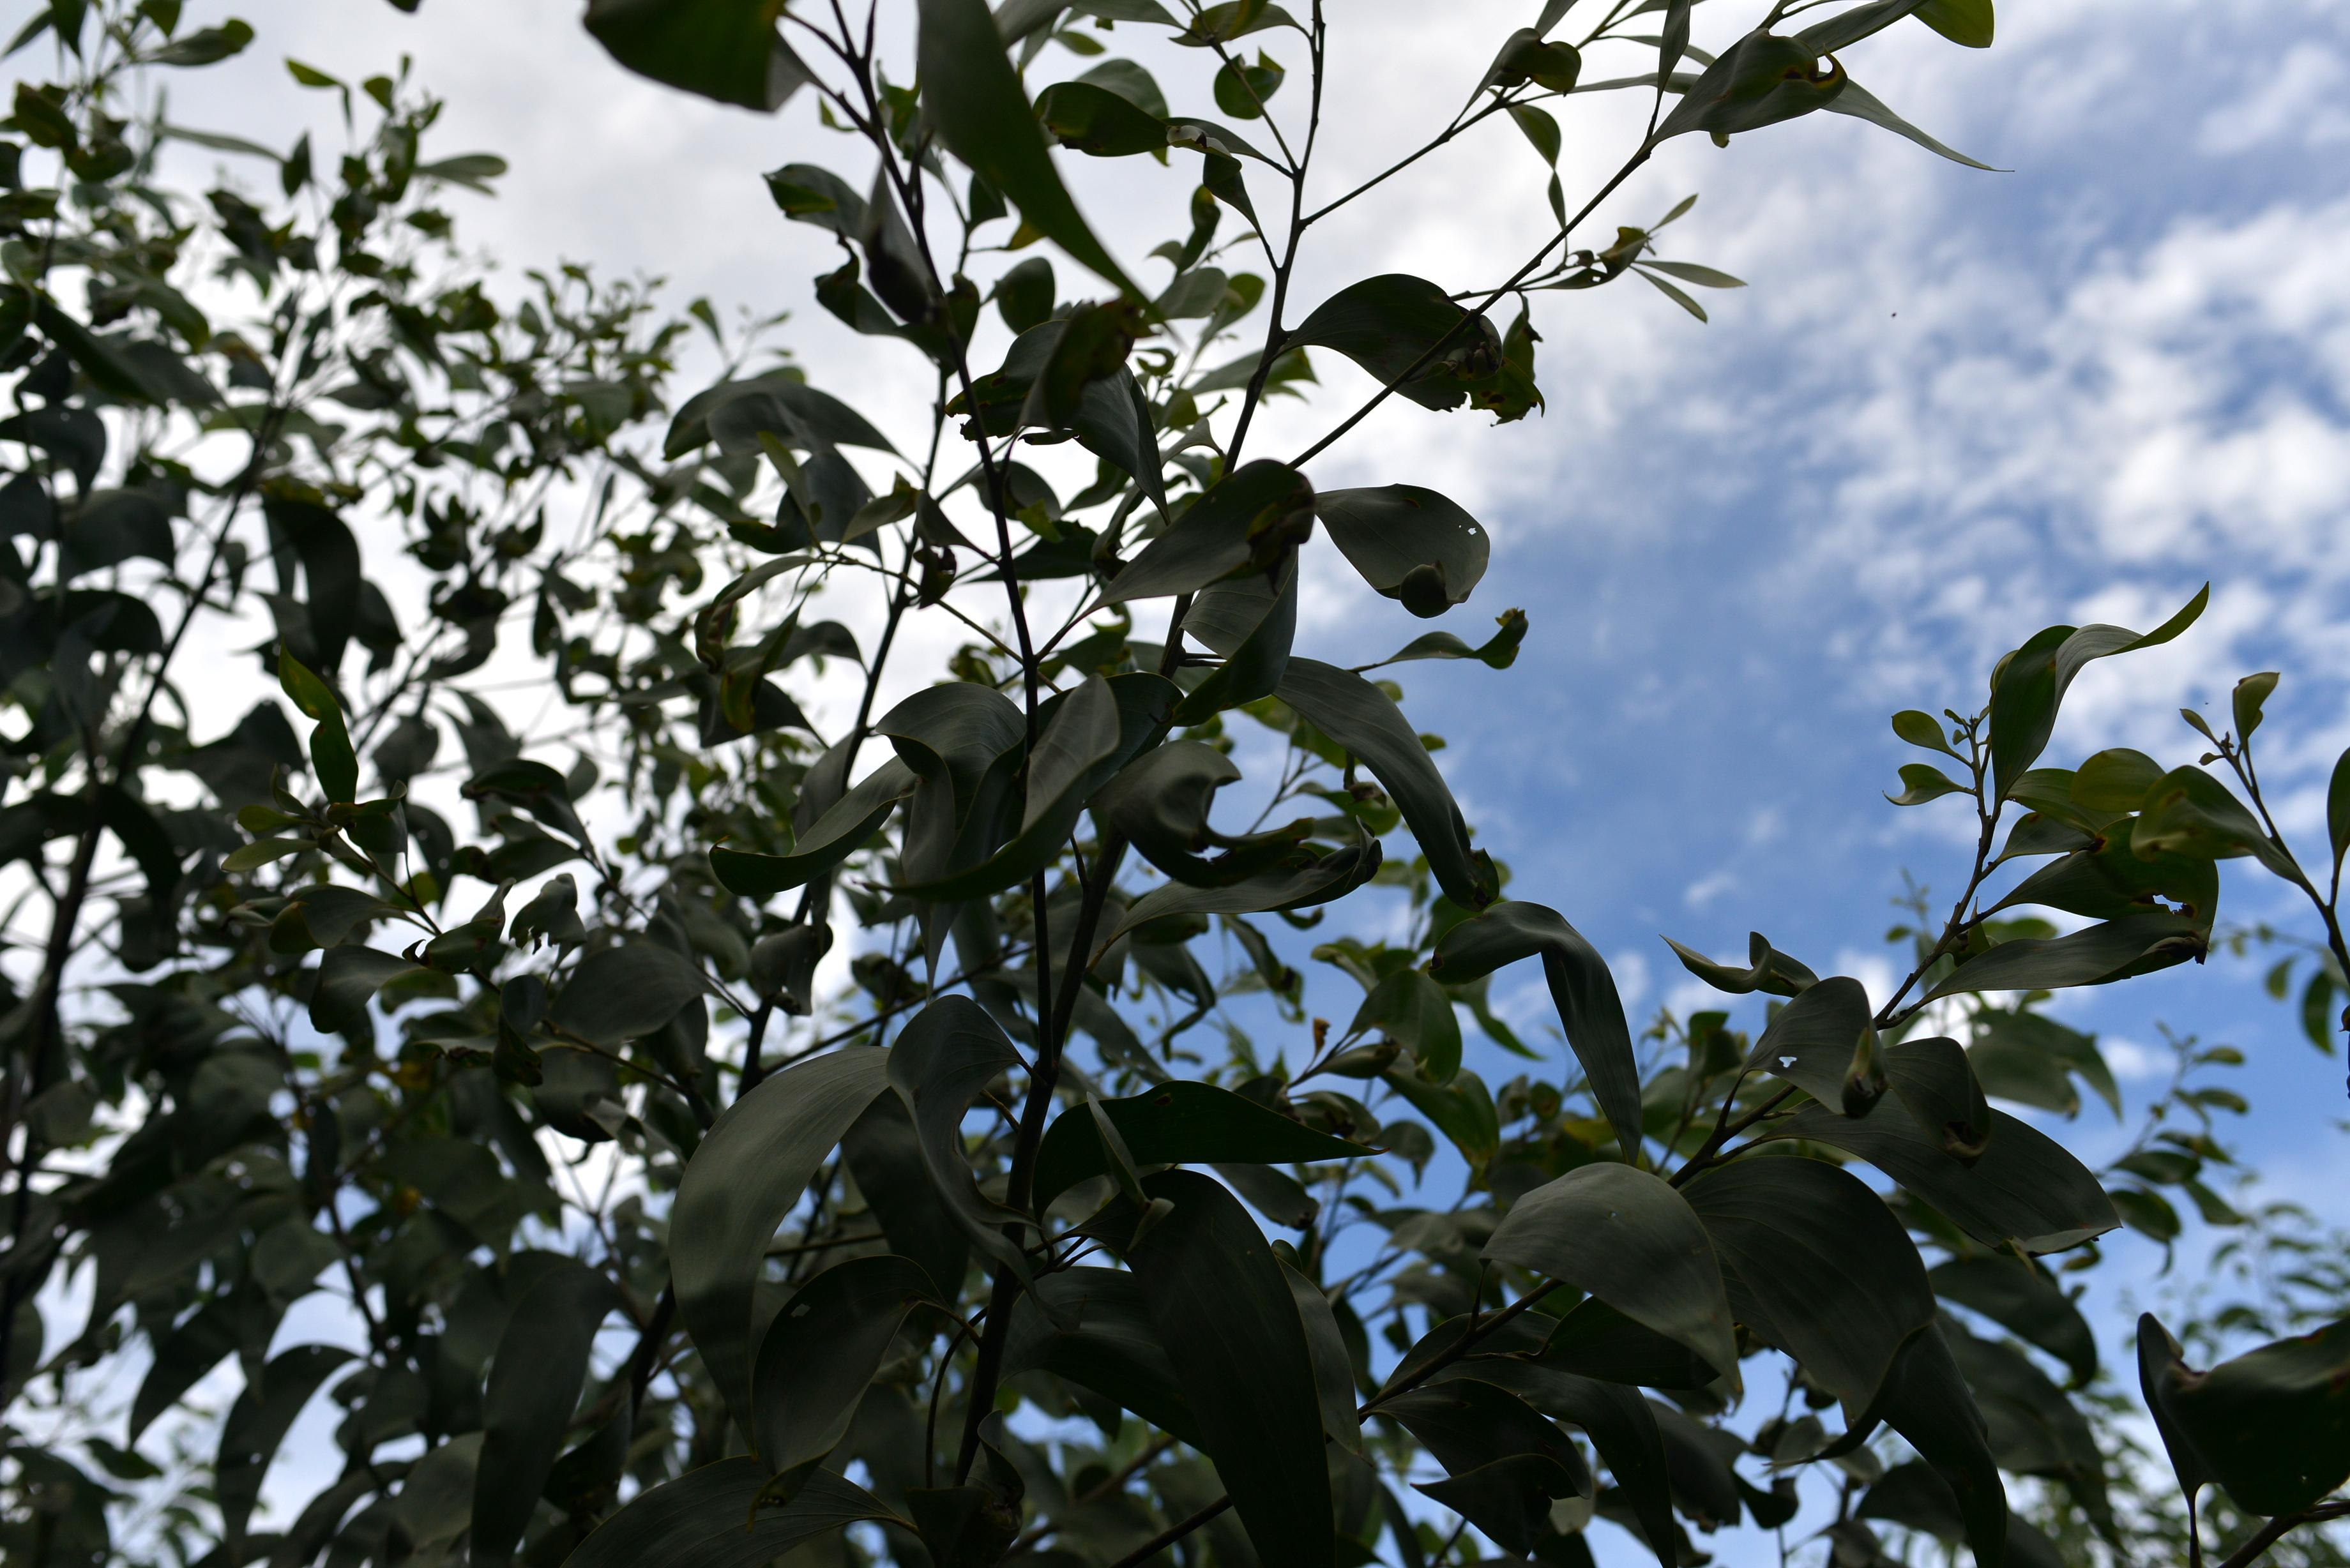Pasalora: (1984, 588, 2219, 817), (1729, 955, 1991, 1158), (882, 990, 1053, 1288), (2137, 1309, 2350, 1528), (1374, 1363, 1596, 1557), (863, 681, 1036, 896), (1113, 812, 1389, 938), (1249, 485, 1493, 619), (674, 378, 920, 507), (1095, 724, 1297, 875), (1010, 299, 1139, 434), (723, 866, 826, 1031), (1435, 296, 1552, 425), (674, 642, 808, 751), (457, 754, 600, 854), (1127, 908, 1220, 1062), (402, 871, 516, 987), (1650, 926, 1818, 1003), (691, 553, 810, 660), (220, 889, 397, 955), (1379, 609, 1529, 682), (1473, 24, 1589, 98), (511, 868, 586, 976), (324, 775, 408, 857), (2231, 670, 2289, 742), (268, 754, 306, 815), (1132, 341, 1181, 378)
